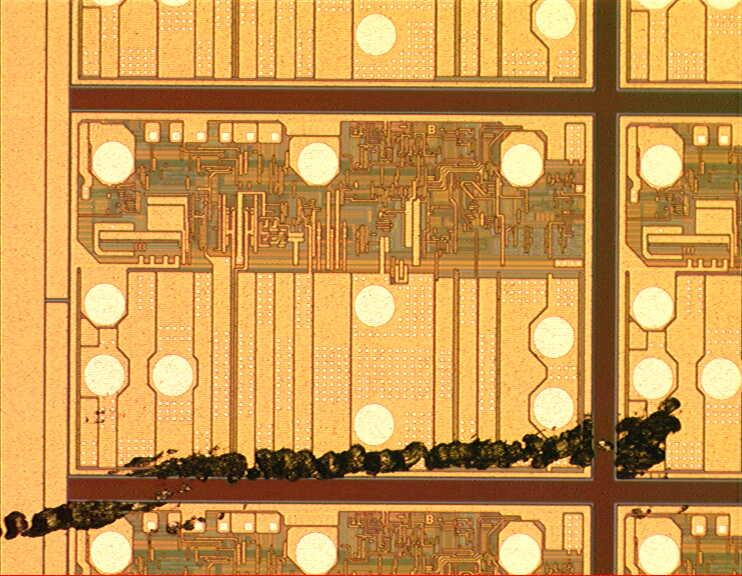SCRATCH: (1, 391, 689, 547)
